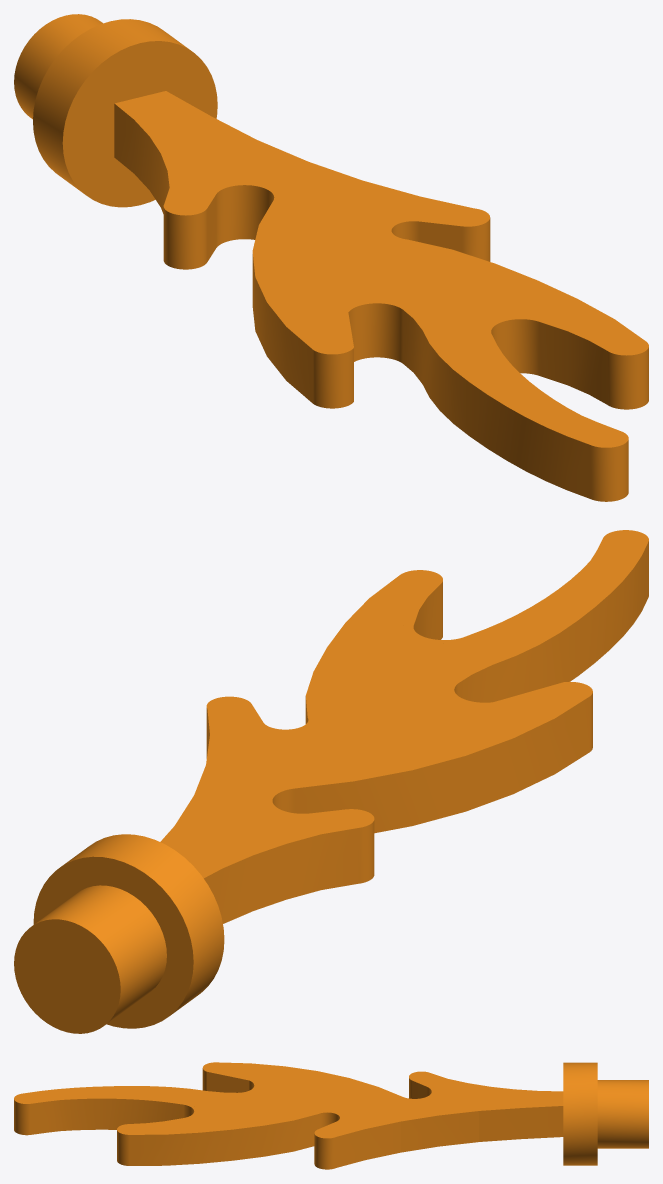
Rendered from LegoFlame.glb.
3 views of the same model, one above another, from view 1: azimuth 30°, elevation 25°; view 2: azimuth 150°, elevation 25°; view 3: azimuth 270°, elevation 25° (orthographic). The views are drawn at different scales.
Visible parts, largest first — view 1: LegoFlame; view 2: LegoFlame; view 3: LegoFlame.
Boxes of the visible parts, <box> form: LegoFlame: <box>14,14,648,501</box>; LegoFlame: <box>14,530,648,1033</box>; LegoFlame: <box>14,1062,648,1169</box>.
Size of the model in its own units: 20.98 by 12 by 74.
